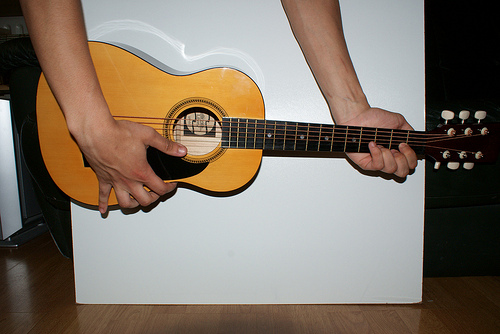guitar: (34, 40, 491, 212)
